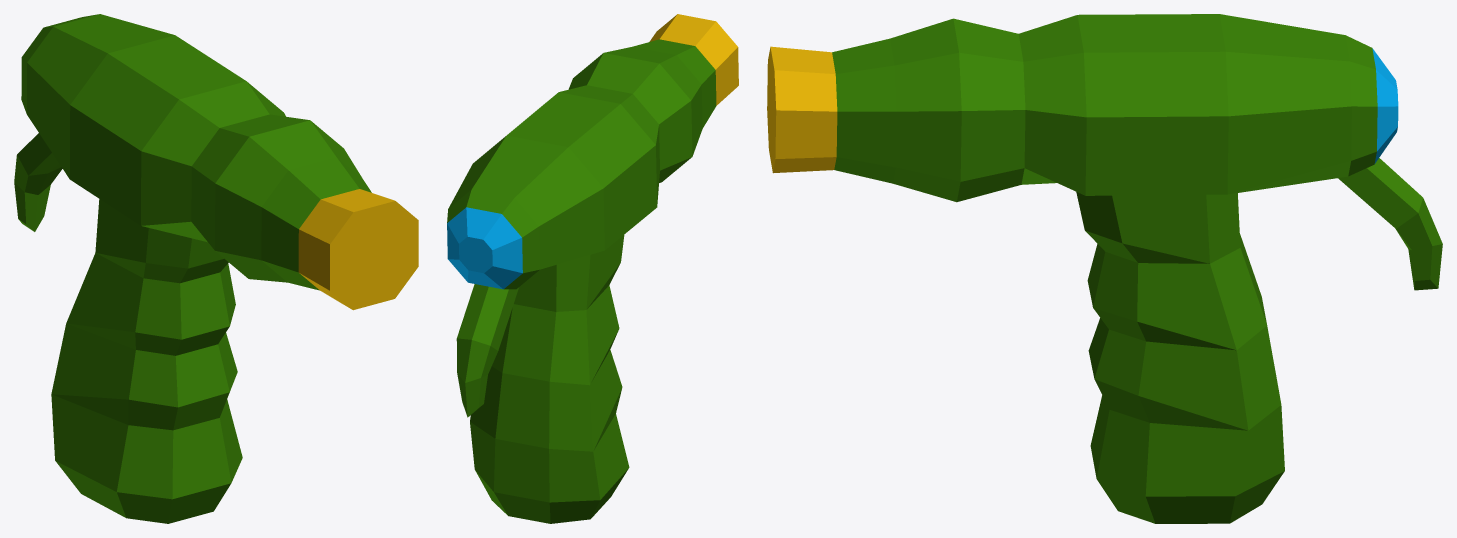
The model's file is GooGun.fbx.
3 views of the same model, side by side, from view 1: azimuth 30°, elevation 25°; view 2: azimuth 150°, elevation 25°; view 3: azimuth 270°, elevation 25° (orthographic). The views are drawn at different scales.
Visible parts, largest first — view 1: SM_Prop_Spray_Gun_01; view 2: SM_Prop_Spray_Gun_01; view 3: SM_Prop_Spray_Gun_01.
Boxes of the visible parts, x1,y1,x2,y2 form: SM_Prop_Spray_Gun_01: [14, 14, 418, 523]; SM_Prop_Spray_Gun_01: [447, 14, 738, 523]; SM_Prop_Spray_Gun_01: [767, 14, 1442, 523].
Size of the model in its own units: 7.3 by 19.17 by 24.93.
